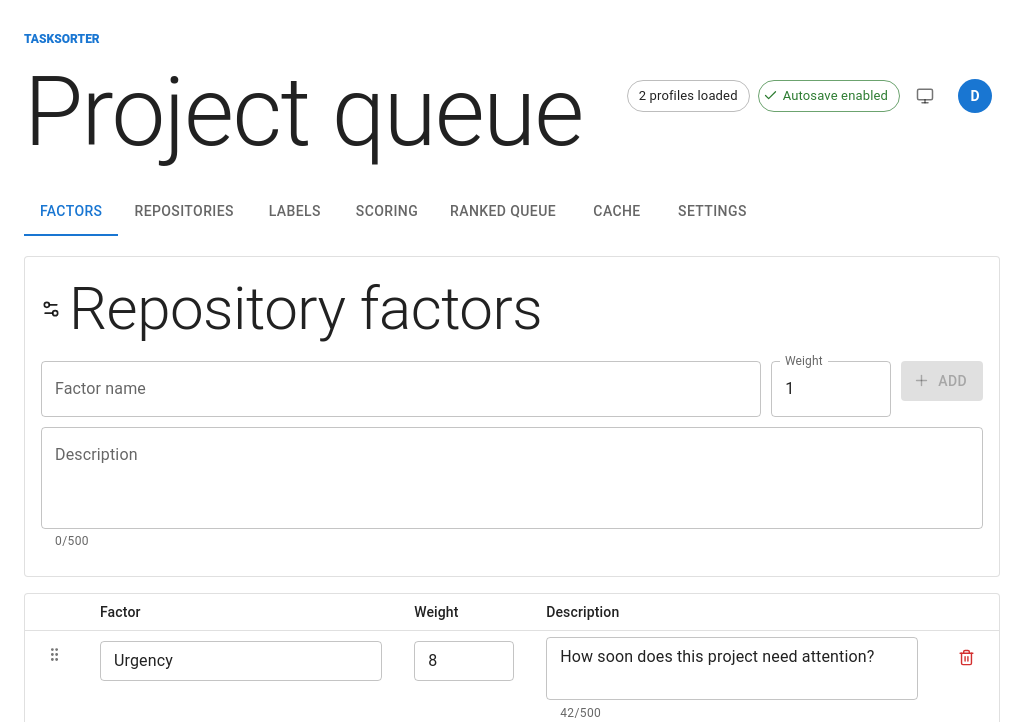
Scenario: App › uses the Scoring tab for tiers and tuning without status or size controls
Expected: the text "Autosave enabled" is shown, [783,88,888,103]
Step 1. Click the tab "Scoring" → (387, 212), box [340,188,434,236]
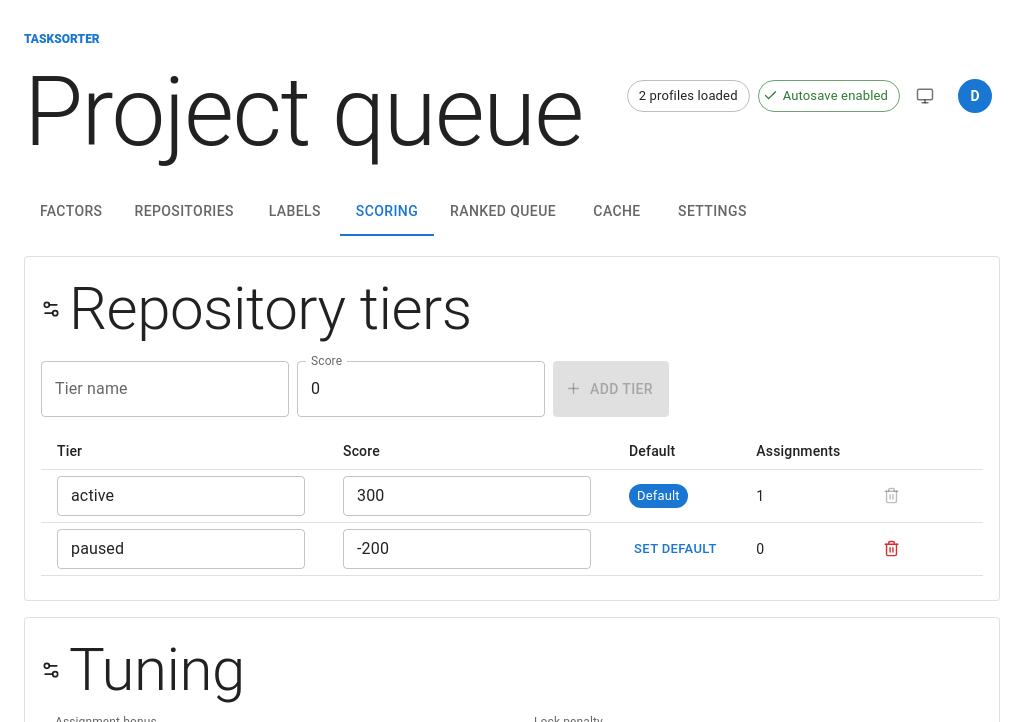
Now the heading "Repository tiers" is shown, box [69,273,472,345]
Now the heading "Tuning" is shown, box [69,634,245,706]
